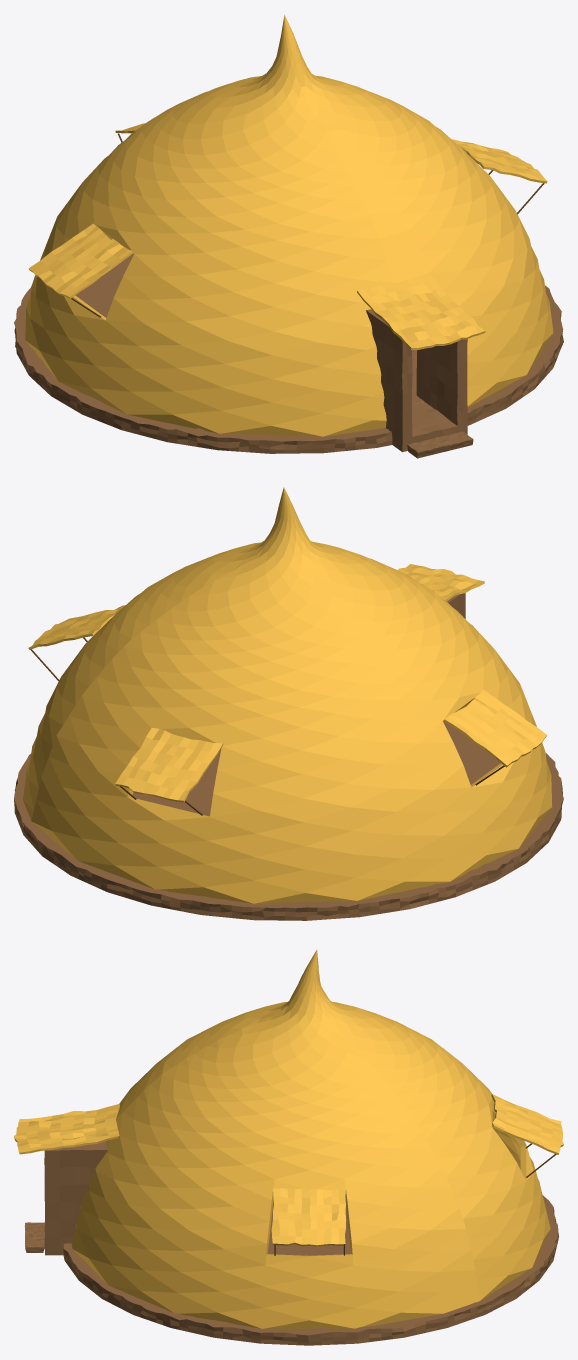
File: Ethiopia Hut C.fbx
The picture shows the model from 3 angles, top to bottom: view 1: azimuth 30°, elevation 25°; view 2: azimuth 150°, elevation 25°; view 3: azimuth 270°, elevation 25°; orthographic projection. The views are drawn at different scales.
Visible parts, largest first — view 1: Ethiopia Hut C; view 2: Ethiopia Hut C; view 3: Ethiopia Hut C.
Part boxes in pixels (x1,y1,x2,y2): Ethiopia Hut C: (14, 15, 563, 458); Ethiopia Hut C: (14, 487, 563, 920); Ethiopia Hut C: (14, 950, 563, 1345).
Bounding box in the file's own units: 1137 × 718 × 1228.
Materials: 1 (1 with a texture image).
